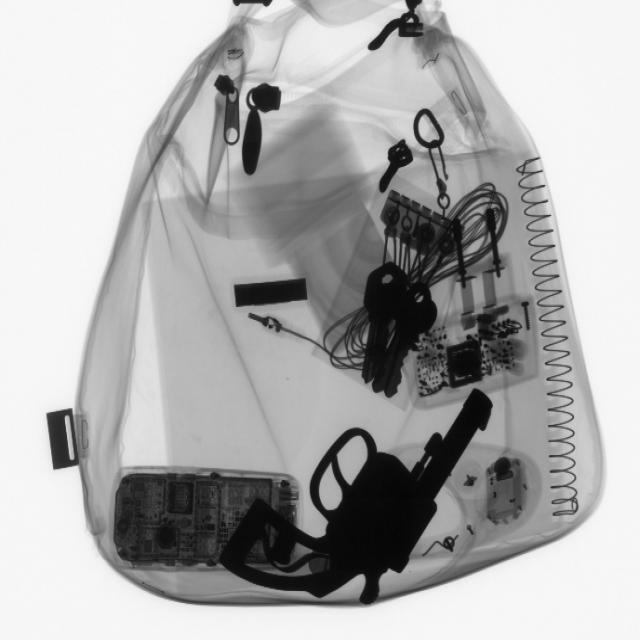GUN: (228, 380, 490, 610)
